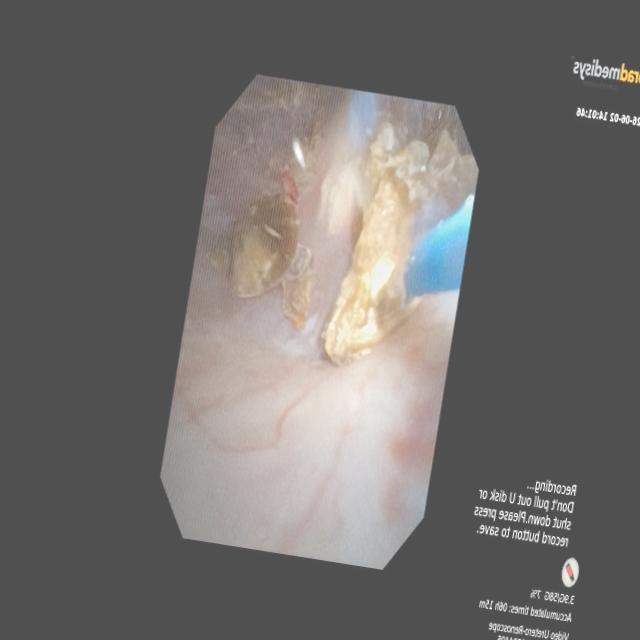laser-fibre: (389, 262, 406, 298)
laser_dot: (371, 257, 394, 299)
stone-new: (322, 125, 478, 364), (214, 193, 299, 296), (282, 246, 315, 329)
